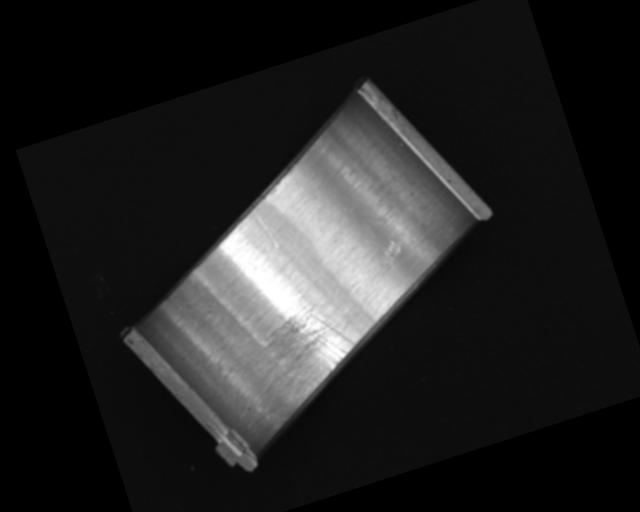bruise: (372, 237, 406, 268)
nick: (255, 209, 279, 251)
scratch: (249, 293, 372, 423)
